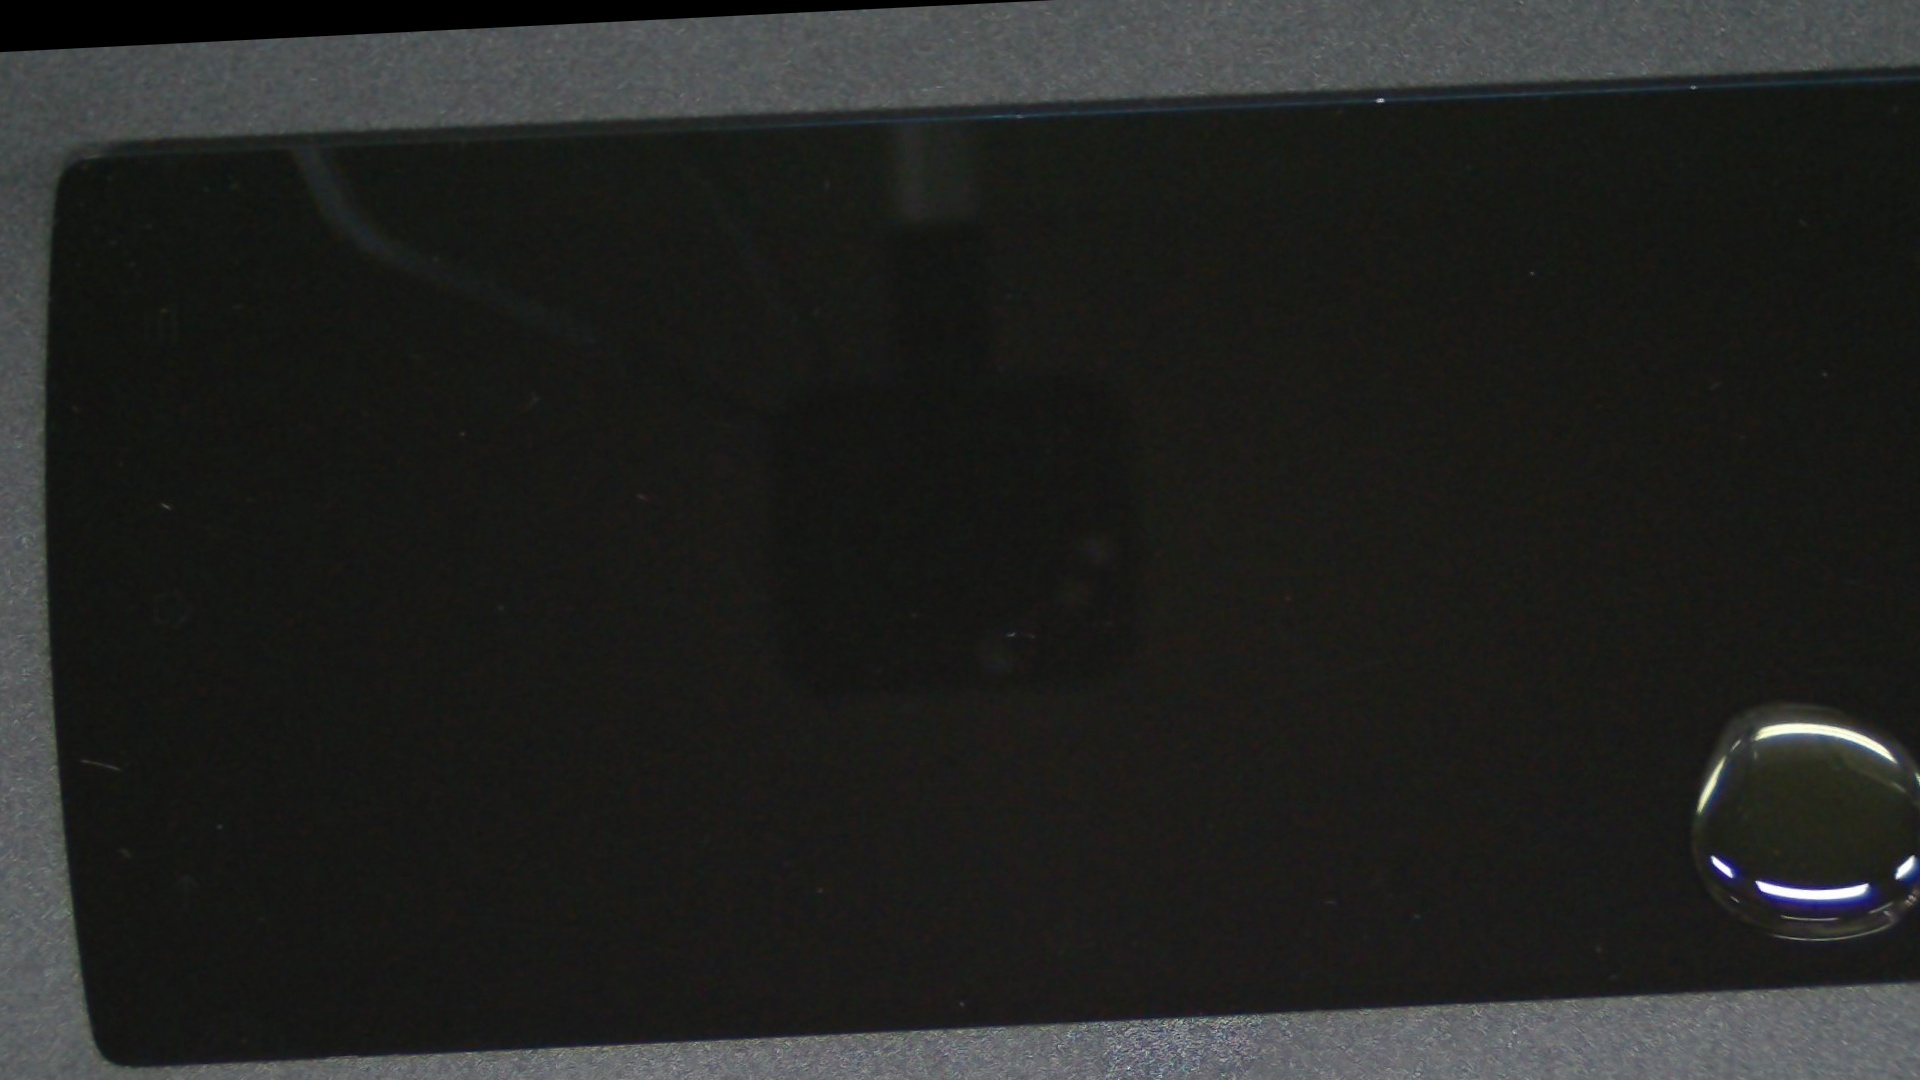oil: (835, 314, 1920, 1080)
